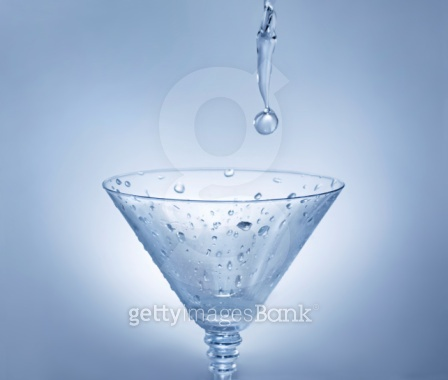glass of water: (94, 158, 368, 354)
